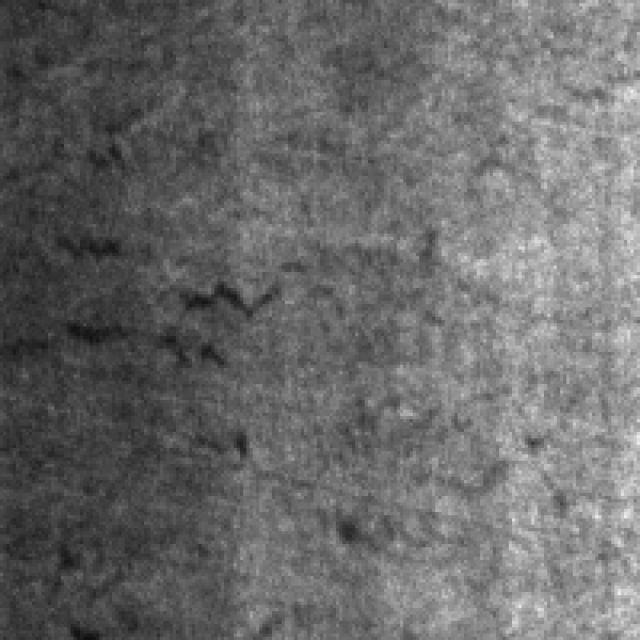crazing: (9, 218, 284, 477)
